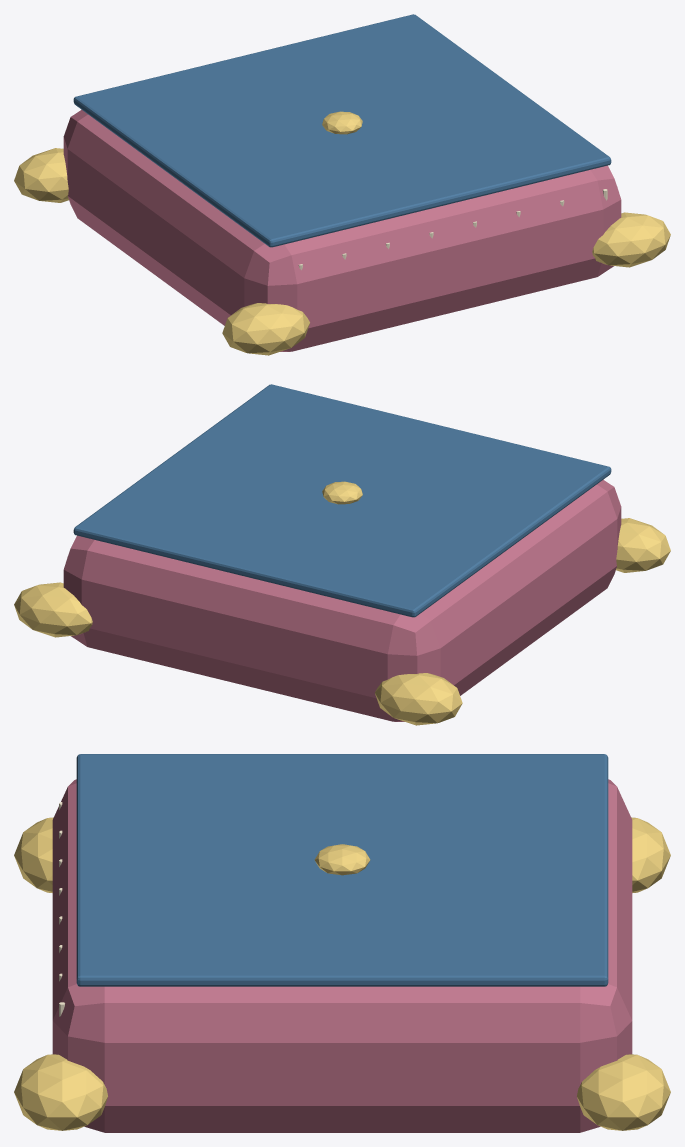
Rendered from home_zabuton.glb.
3 views of the same model, one above another, from view 1: azimuth 30°, elevation 25°; view 2: azimuth 150°, elevation 25°; view 3: azimuth 270°, elevation 25° (orthographic). The views are drawn at different scales.
Visible parts, largest first — view 1: Seamed indigo zabuton center, Zabuton plush filled sitting cushion, Corner tassel, Corner tassel.002, Corner tassel.001, Central stitched button; view 2: Seamed indigo zabuton center, Zabuton plush filled sitting cushion, Corner tassel.001, Corner tassel.003, Corner tassel, Central stitched button; view 3: Seamed indigo zabuton center, Zabuton plush filled sitting cushion, Corner tassel.002, Corner tassel.003, Corner tassel, Corner tassel.001, Central stitched button.
Part boxes in pixels (left/top/right/bottom): Seamed indigo zabuton center: left=73, top=14, right=611, bottom=247; Zabuton plush filled sitting cushion: left=63, top=109, right=621, bottom=351; Corner tassel: left=222, top=303, right=309, bottom=355; Corner tassel.002: left=592, top=212, right=670, bottom=267; Corner tassel.001: left=14, top=148, right=68, bottom=202; Central stitched button: left=322, top=111, right=362, bottom=134; Seamed indigo zabuton center: left=73, top=384, right=611, bottom=617; Zabuton plush filled sitting cushion: left=63, top=479, right=621, bottom=721; Corner tassel.001: left=375, top=673, right=462, bottom=725; Corner tassel.003: left=14, top=582, right=92, bottom=637; Corner tassel: left=616, top=518, right=670, bottom=572; Central stitched button: left=322, top=481, right=362, bottom=504; Seamed indigo zabuton center: left=76, top=754, right=608, bottom=986; Zabuton plush filled sitting cushion: left=52, top=779, right=632, bottom=1132; Corner tassel.002: left=14, top=1054, right=107, bottom=1130; Corner tassel.003: left=577, top=1054, right=670, bottom=1130; Corner tassel: left=14, top=817, right=53, bottom=892; Corner tassel.001: left=631, top=817, right=670, bottom=892; Central stitched button: left=314, top=844, right=370, bottom=875.
Size of the model in its own units: 1.95 by 0.575 by 1.88.
